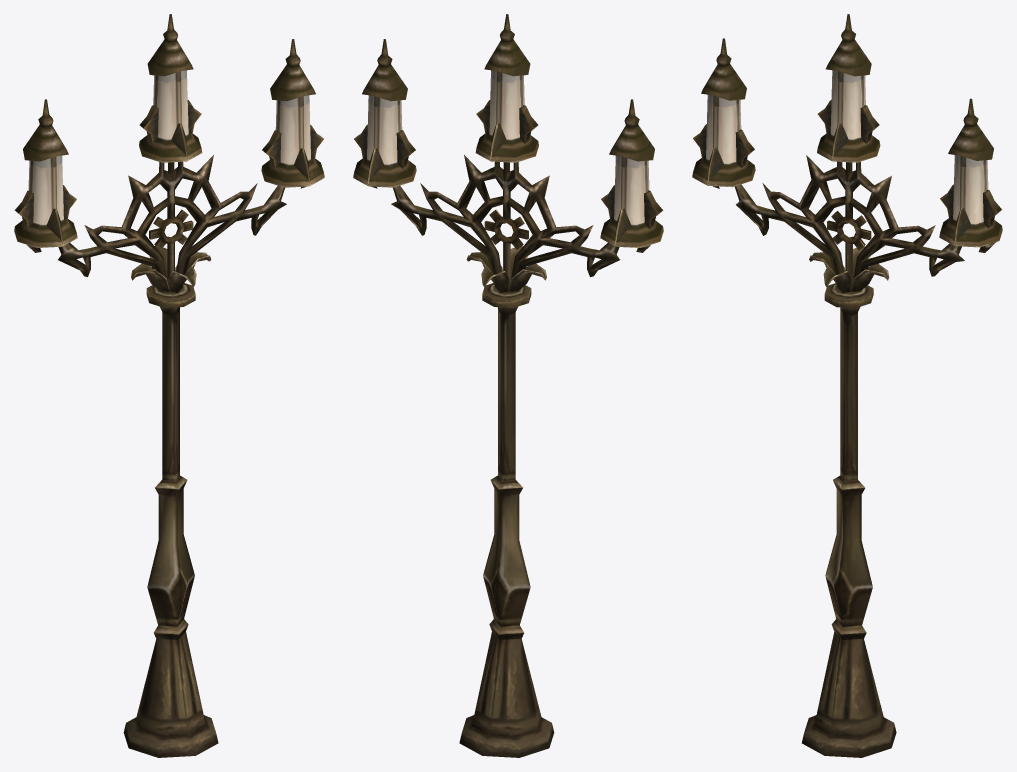
Rendered from SM_Plains_ludeng03.FBX.
3 renders of one model, left to right at view 1: azimuth 30°, elevation 25°; view 2: azimuth 150°, elevation 25°; view 3: azimuth 330°, elevation 25°, orthographic.
Visible parts, largest first — view 1: SM_Plains_ludeng03; view 2: SM_Plains_ludeng03; view 3: SM_Plains_ludeng03.
Part boxes in pixels (x1,y1,x2,y2): SM_Plains_ludeng03: (14, 14, 324, 757); SM_Plains_ludeng03: (353, 14, 663, 757); SM_Plains_ludeng03: (692, 14, 1002, 757).
Bounding box in the file's own units: 285 × 645 × 79.37.
